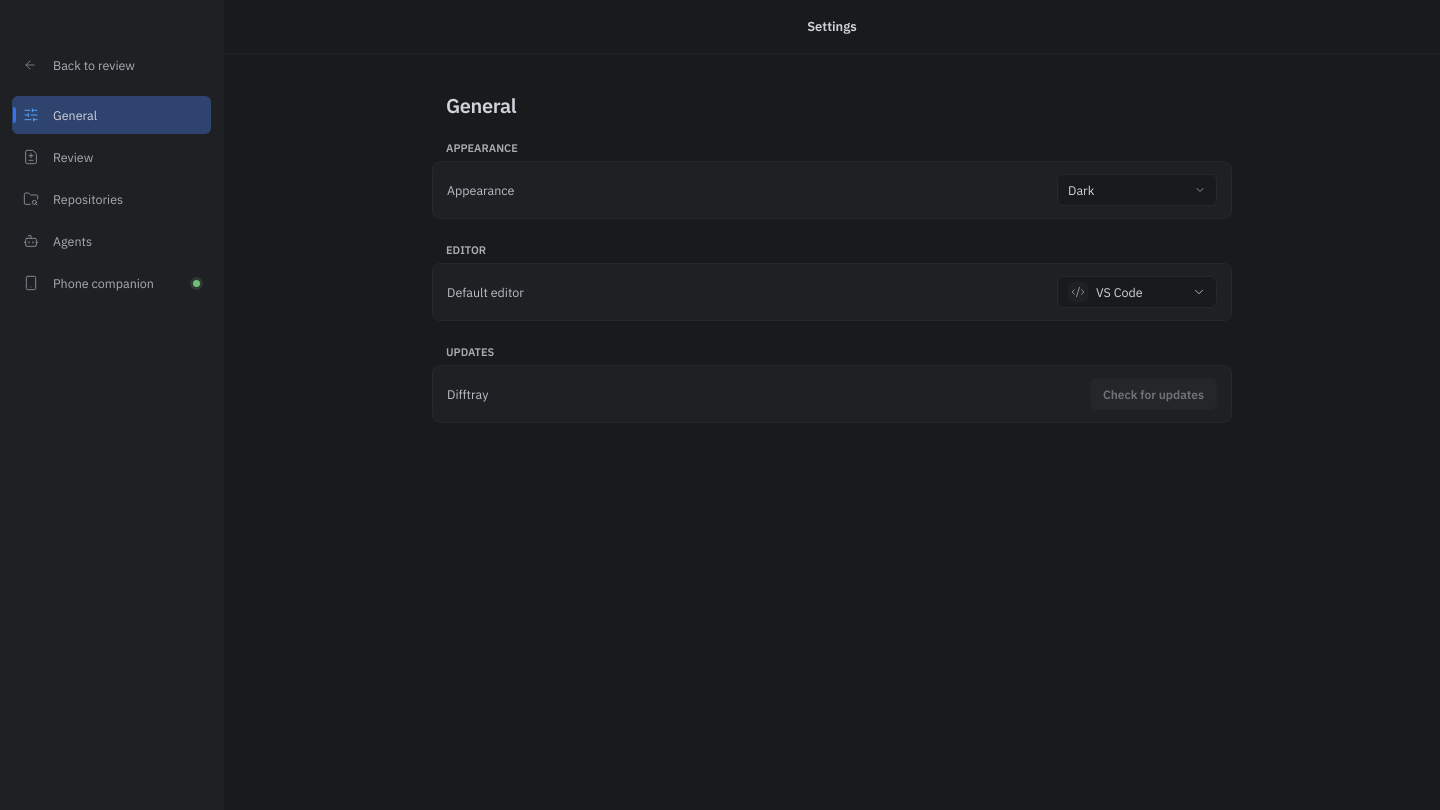
Test: SettingsPanel › renders app settings sections and active values without form actions
This screenshot has width=1440, height=810.
Expected: the heading with id "settings-page-title" reads "General", [446,92,516,119]
Expected: the navigation bar named "Settings sections" is shown, [12,96,211,302]
Click the button "Review".
click(112, 157)  # box [12,138,211,176]
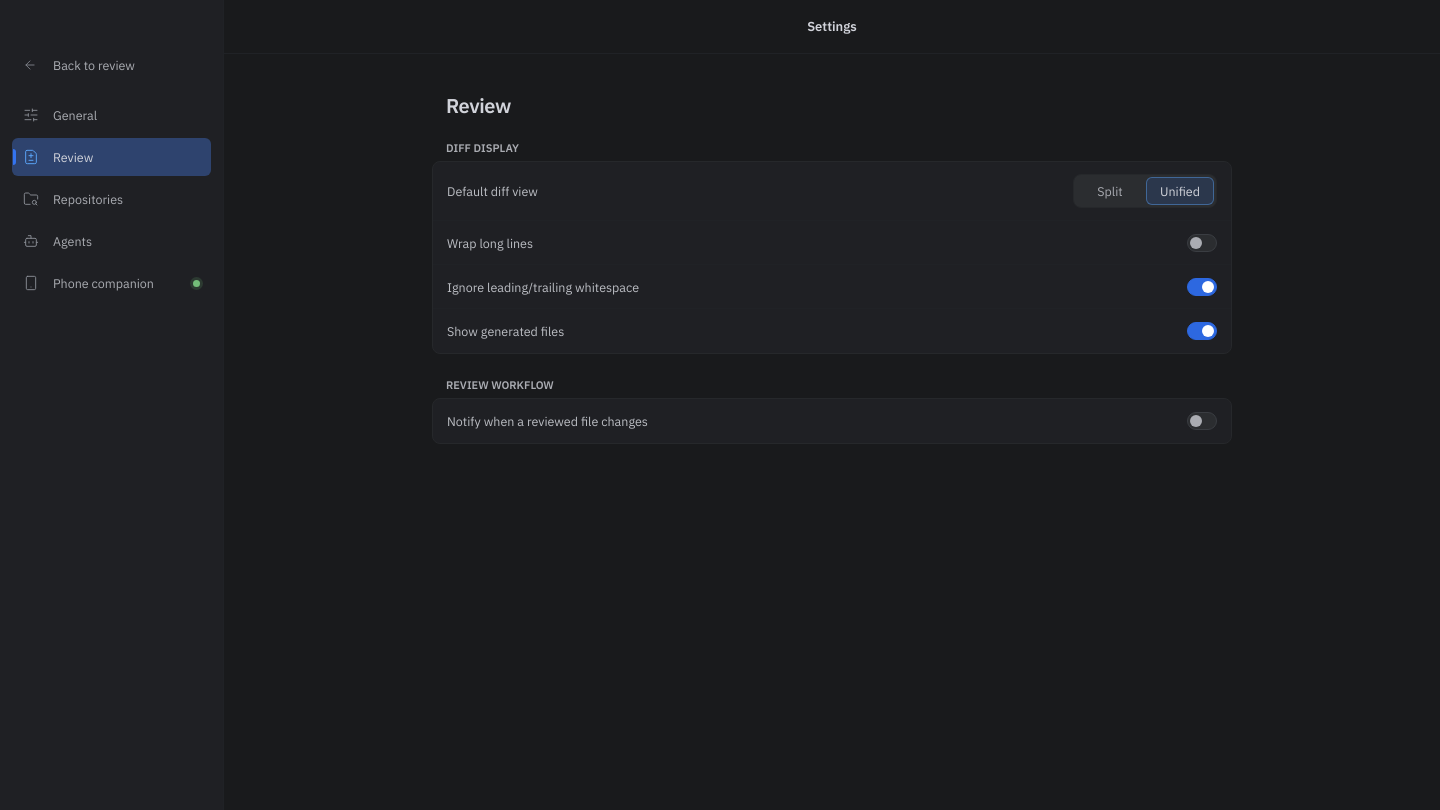
Expected: the heading with id "settings-page-title" reads "Review", [446,92,511,119]
Expected: the element that starts with "Review" shows "Default diff view", [447,183,538,199]
Expected: the element that starts with "Review" shows "Unified", [1146,177,1214,205]
Click the button "Repositories".
click(112, 199)  # box [12,180,211,218]
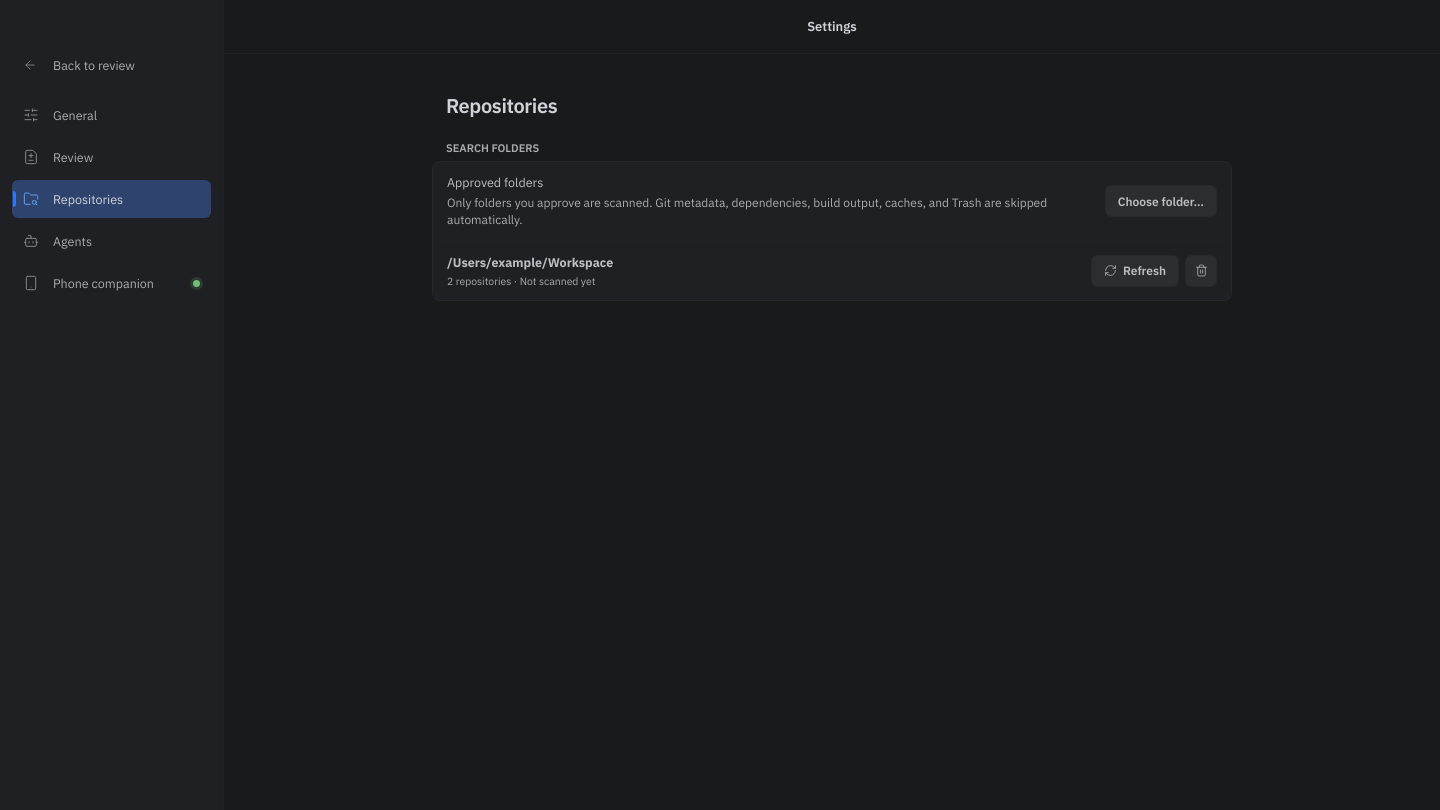
Expected: the heading with id "settings-page-title" reads "Repositories", [446,92,557,119]
Expected: the element that starts with "Repositories" shows "/Users/example/Workspace", [447,254,613,270]
Click the button "Phone companion".
click(112, 283)  # box [12,264,211,302]
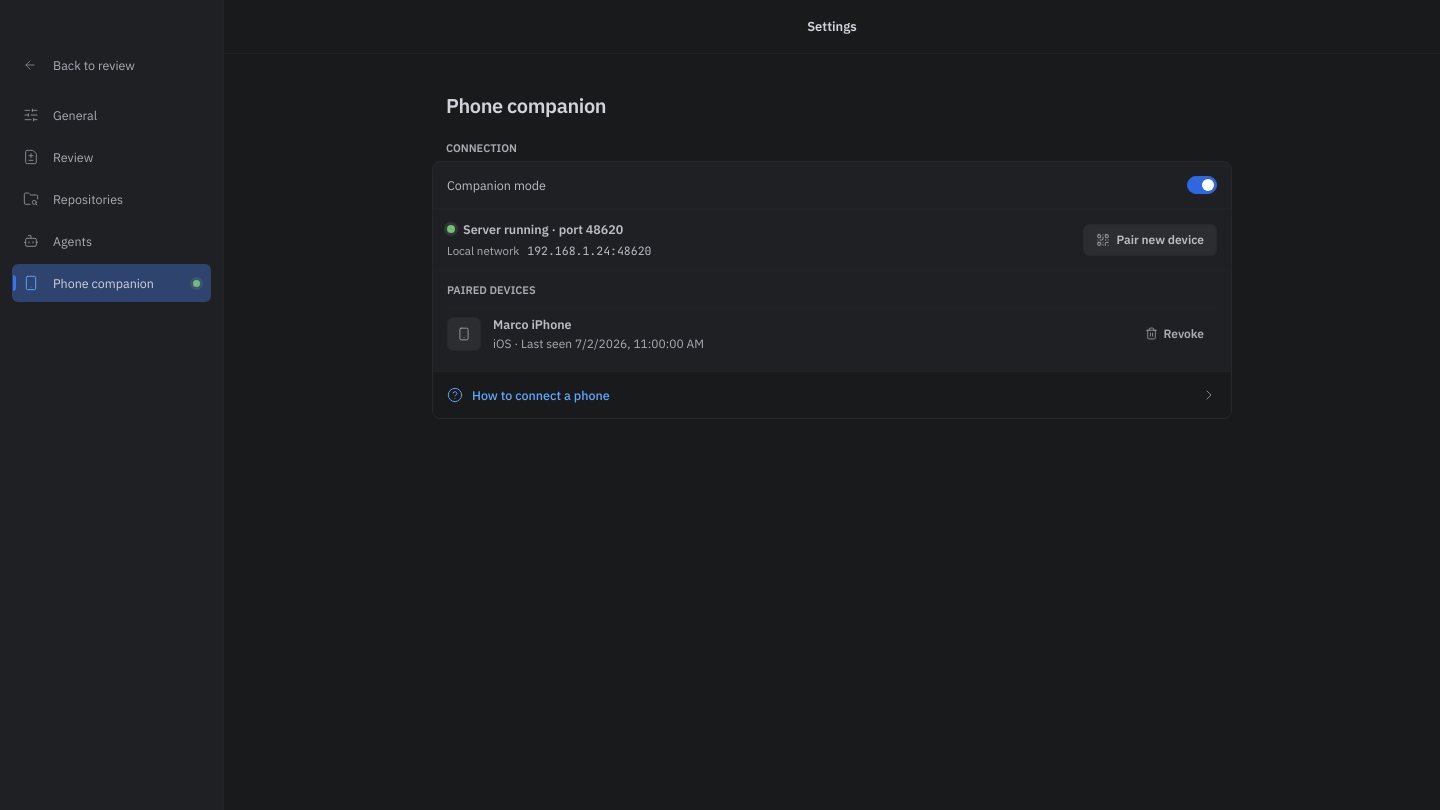
Expected: the heading with id "settings-page-title" reads "Phone companion", [446,92,606,119]
Expected: the element that starts with "Phone companion" shows "port 48620", [463,221,623,237]
Expected: the element that starts with "Phone companion" shows "Local network", [447,243,519,258]
